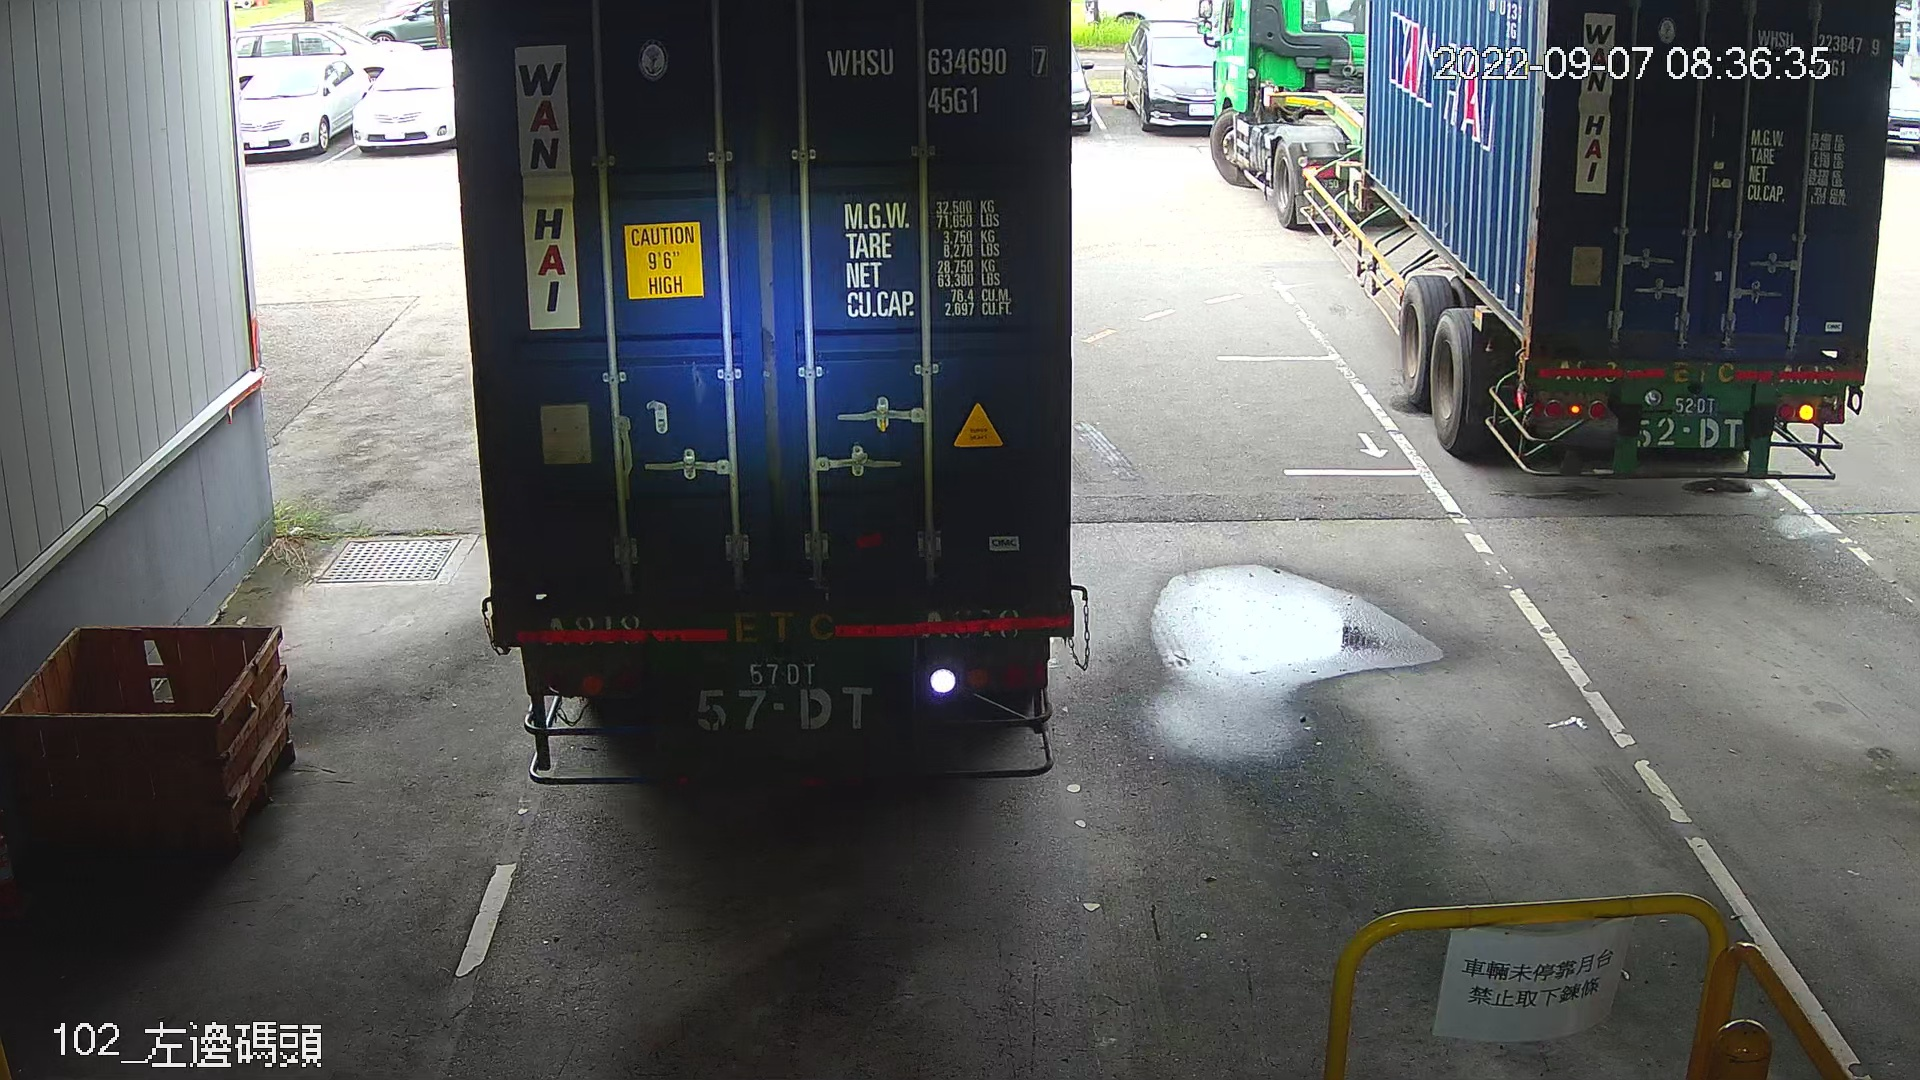container: (816, 32, 1056, 127)
